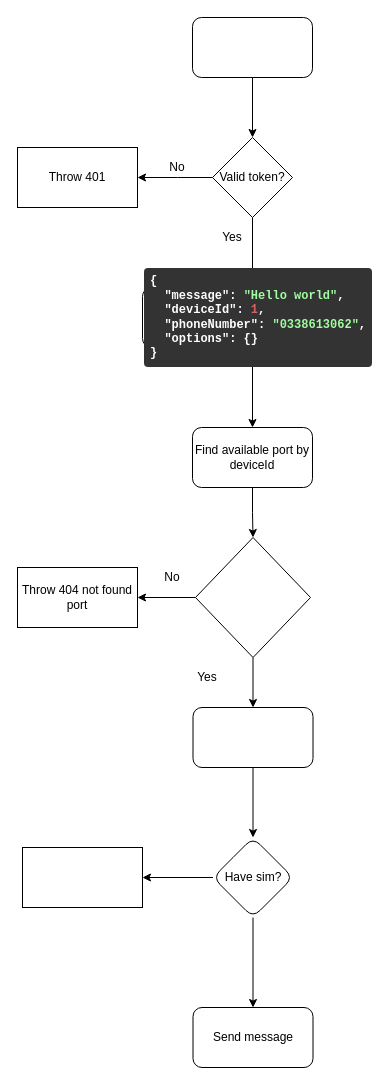
Some shapes in this 390 by 1085 pixel diagram are drawn without their labels. The shapes that lost their labels are listed below. From the top down, each one's centre as x and y in pixels, then its label:
the point at 252,47: Login
the point at 252,597: Have port?
the point at 252,737: Find sim by port, network and device
the point at 82,877: Throw 404 not found sim
